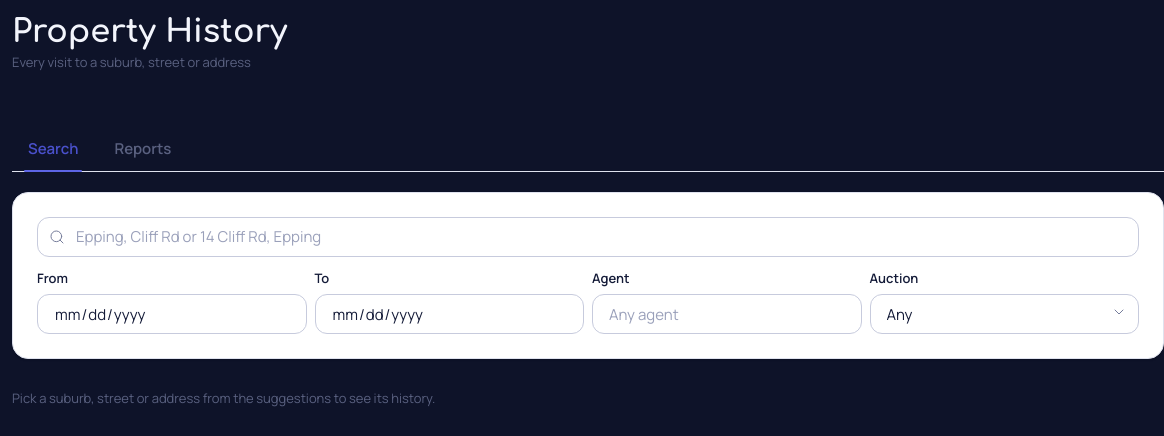
Test case: Customer Property History page › lets an Account Owner delete a report after confirming, with no State column or Restore
Click the tab "Reports". click: x=143, y=148
box: [98,126,187,171]
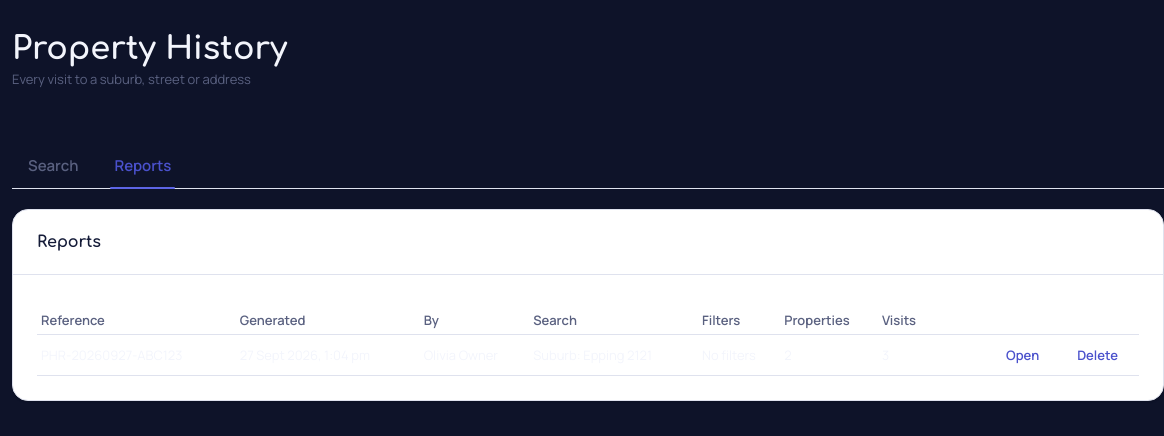
Click the button with aria-label "Delete PHR-20260927-ABC123". click: x=1098, y=356
box: [1060,340,1135,372]
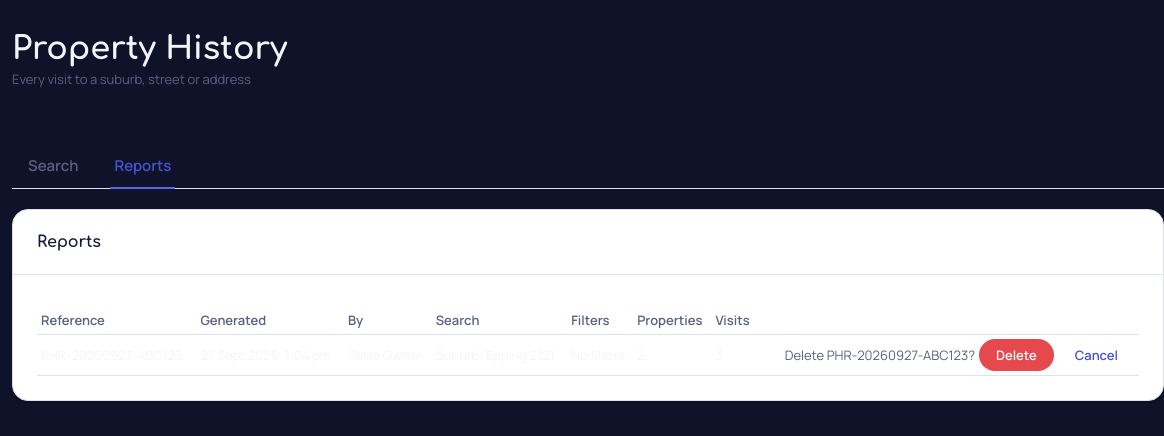
Check: the text "Delete PHR-20260927-ABC123?" is shown, box [785,346,975,365]
Click the button "Delete". click: x=1016, y=356
box: [979,340,1054,372]
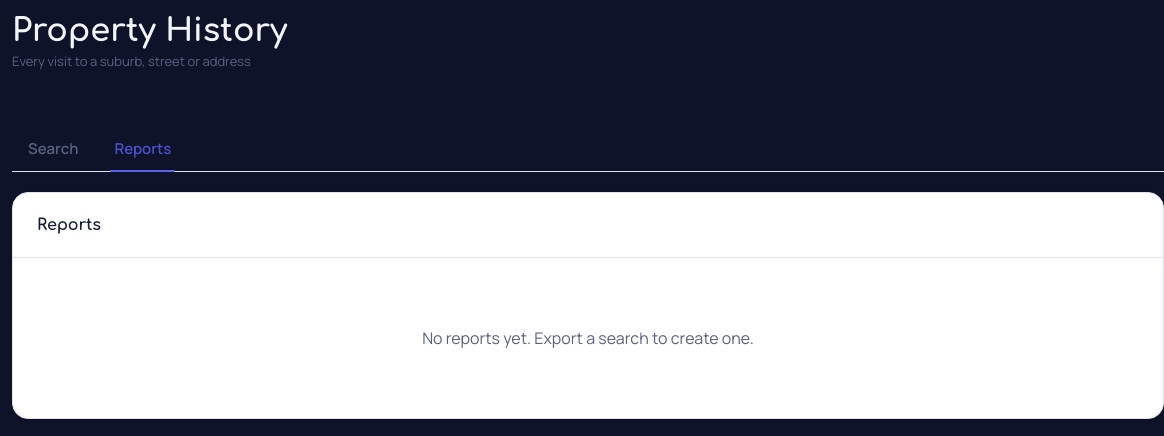
Check: the text "No reports yet. Export a search to create one." is shown, box [422,327,754,349]
